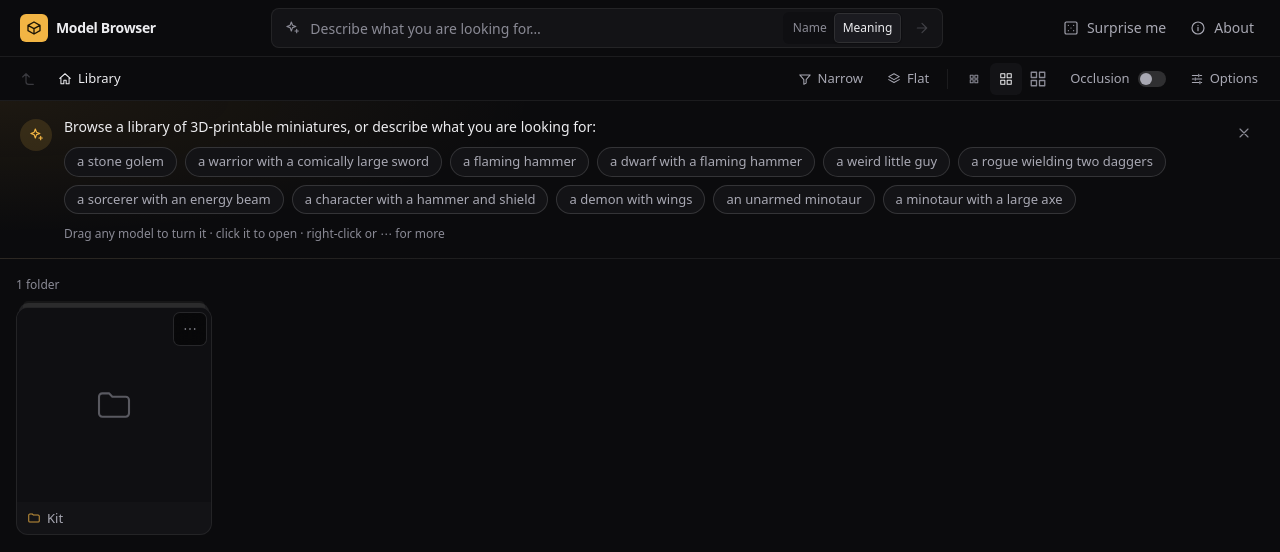
Test: the header keeps what the banner offered › carries About and the surprise action after the banner is dismissed
The width and height of the screenshot is (1280, 552).
Click the button named "Dismiss introduction" at (1244, 133), box 1228,117 -> 1260,149
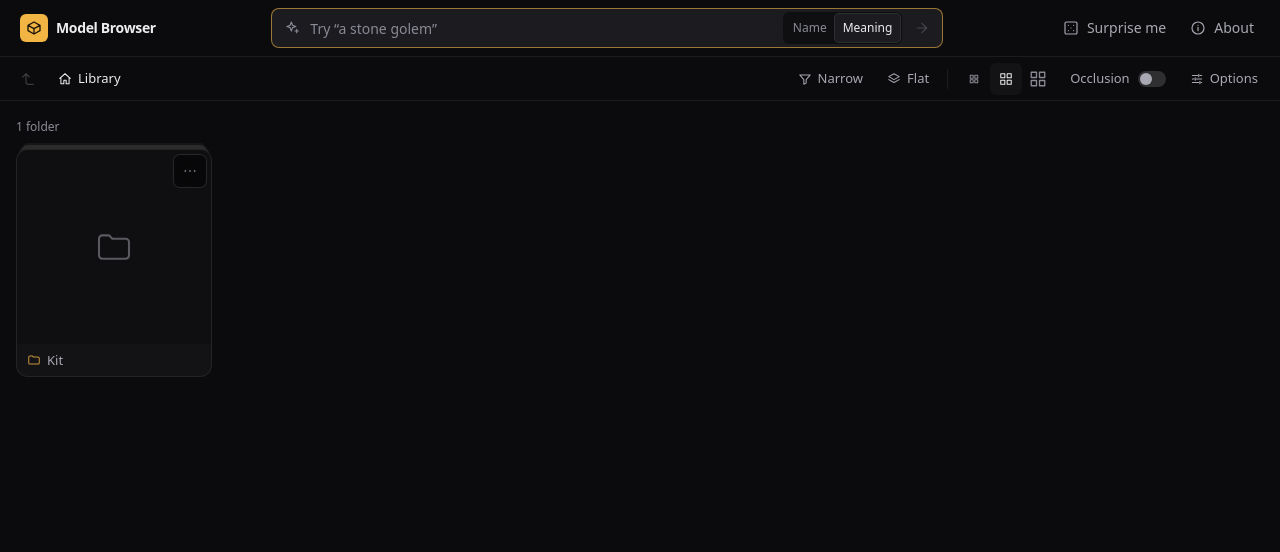
Expected: the link to "/about.html" is shown, 1190,18 -> 1254,37
Now the button named "Introduction" is gone
